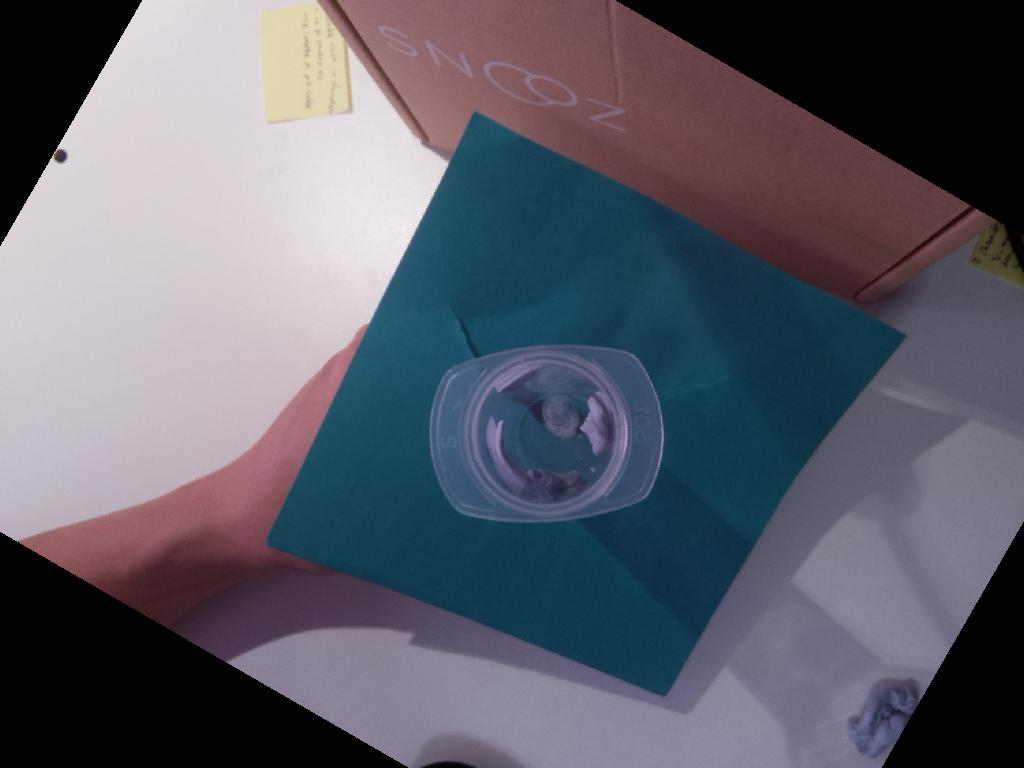dirty: (430, 344, 664, 524)
